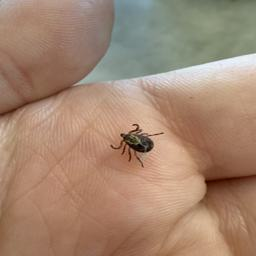Dermacentor variabilis: (109, 122, 164, 168)
